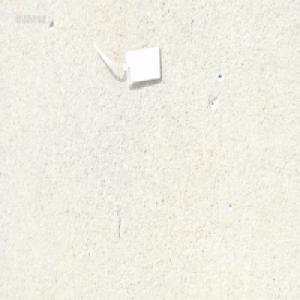LuggageTag: (90, 43, 162, 89)
